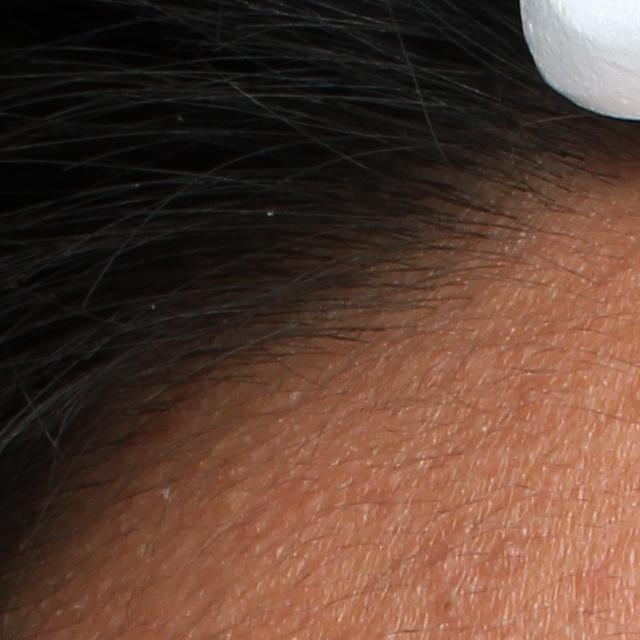comedo: (491, 529, 525, 557), (433, 596, 460, 620)
